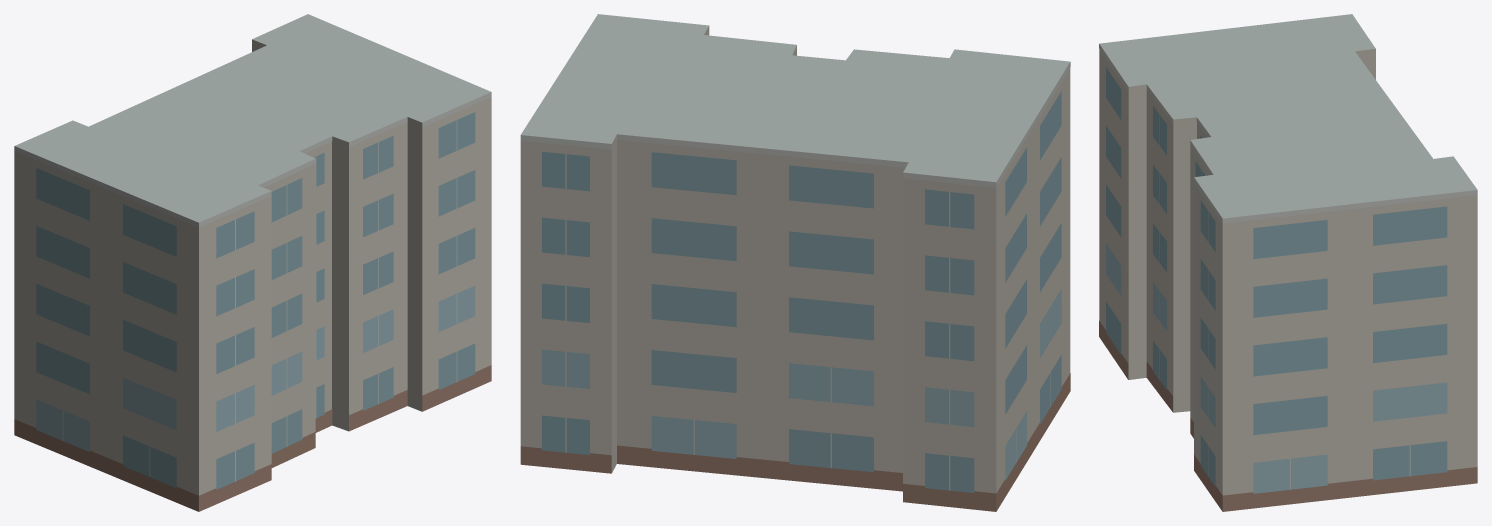
Rendered from survey-upis-32709139.glb.
The picture shows the model from 3 angles, left to right: view 1: azimuth 30°, elevation 25°; view 2: azimuth 150°, elevation 25°; view 3: azimuth 270°, elevation 25°; orthographic projection. The views are drawn at different scales.
Parts seen in each view (by area): view 1: survey-upis-32709139.tmp; view 2: survey-upis-32709139.tmp; view 3: survey-upis-32709139.tmp.
Boxes of the visible parts, x1=… form: survey-upis-32709139.tmp: x1=14, y1=14, x2=491, y2=511; survey-upis-32709139.tmp: x1=520, y1=14, x2=1070, y2=511; survey-upis-32709139.tmp: x1=1099, y1=14, x2=1477, y2=511.
Size of the model in its own units: 21.1 by 14.1 by 16.5.
